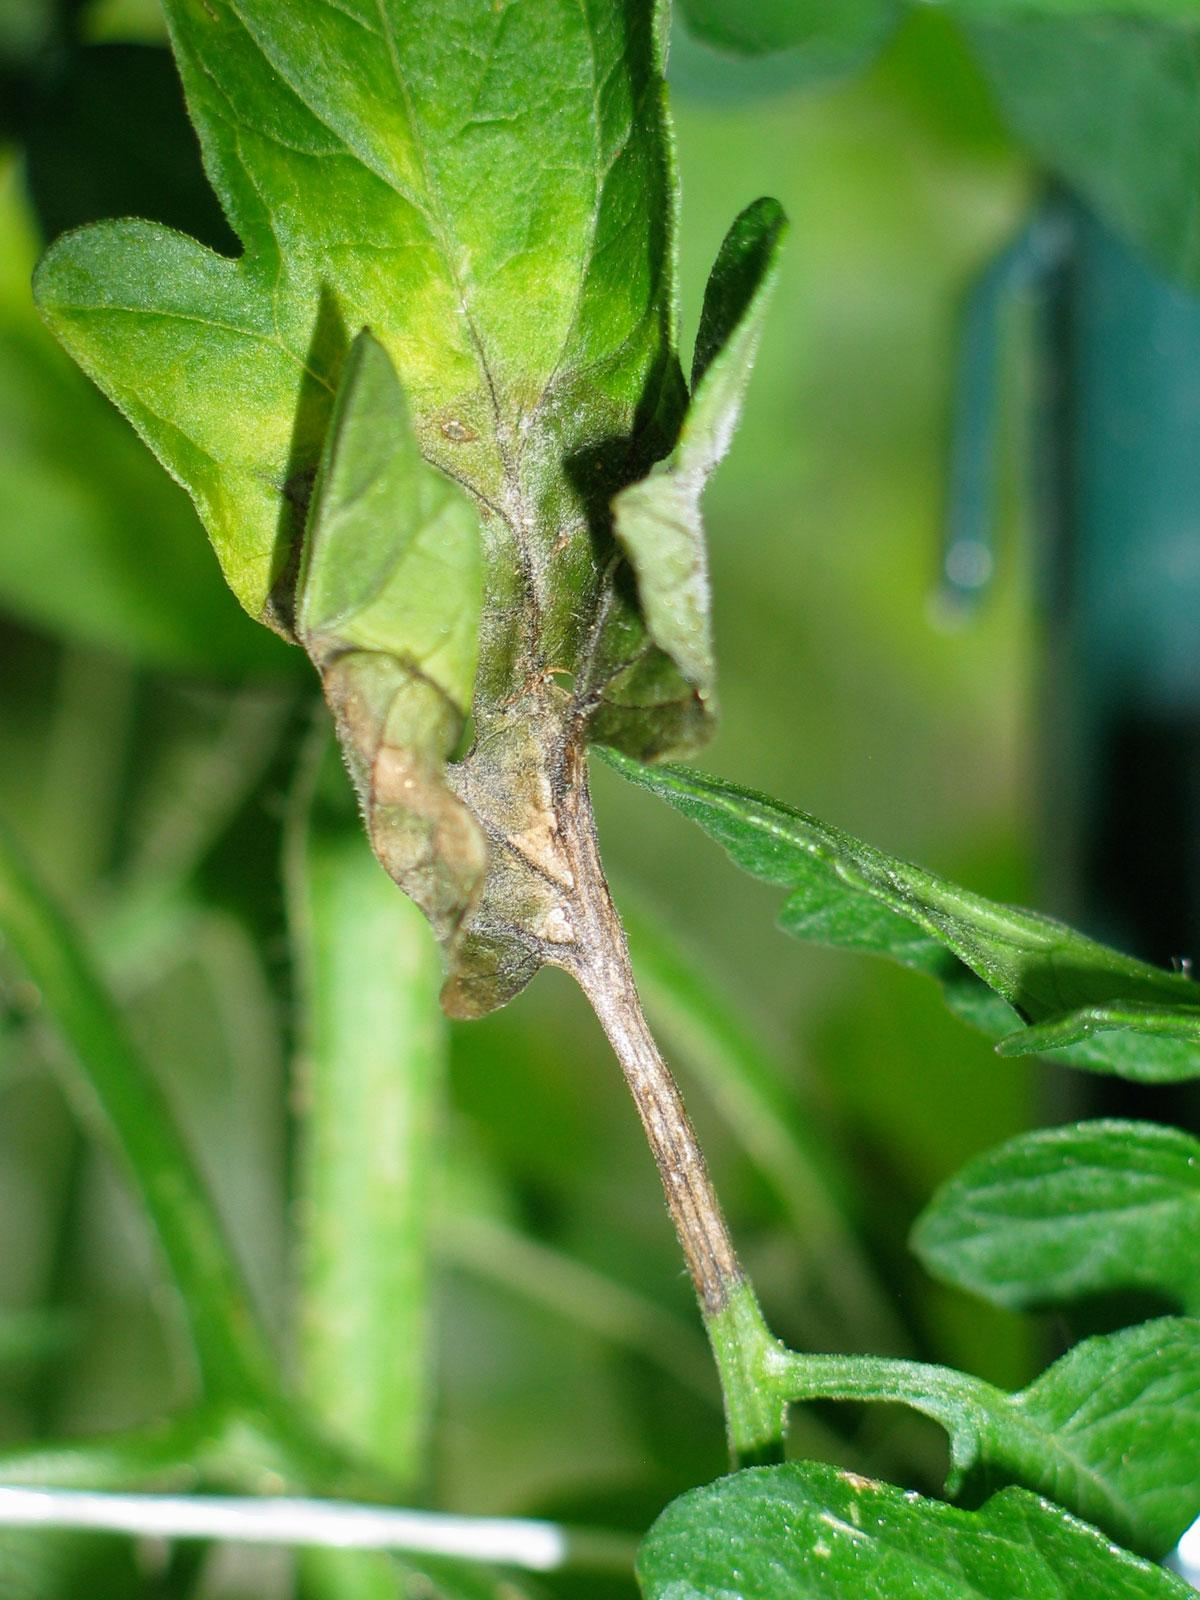Tomato leaf late blight: (21, 4, 782, 1072)
